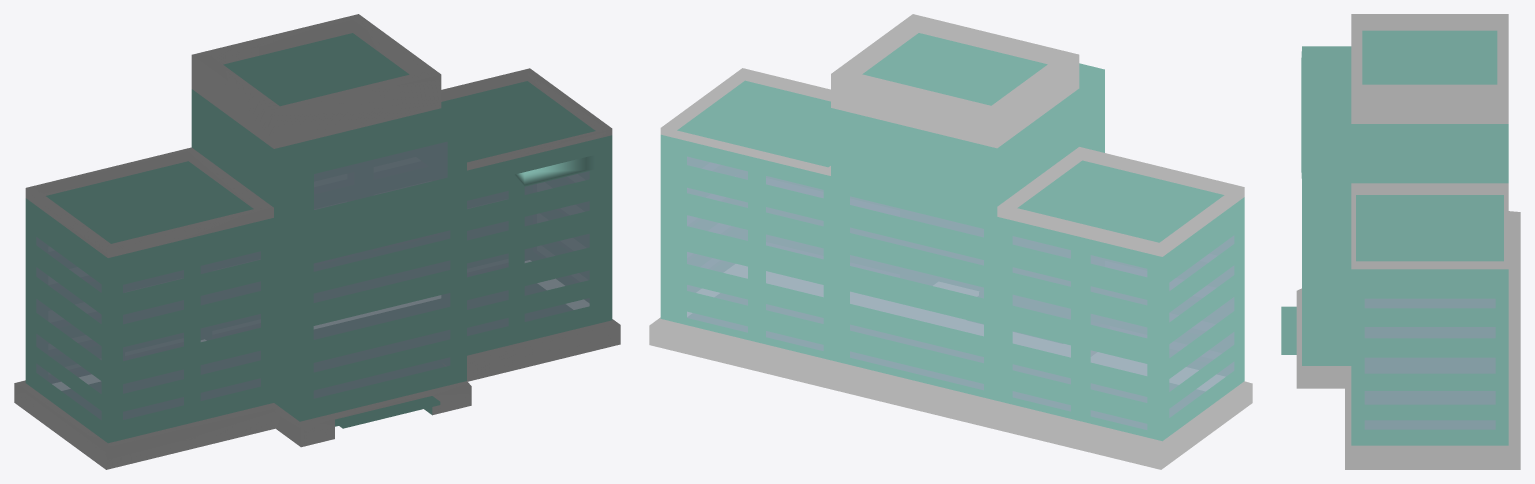
3 renders of one model, left to right at view 1: azimuth 30°, elevation 25°; view 2: azimuth 150°, elevation 25°; view 3: azimuth 270°, elevation 25°, orthographic. The views are drawn at different scales.
Visible parts, largest first — view 1: House_8.001; view 2: House_8.001; view 3: House_8.001.
Boxes of the visible parts, box(x1,y1,x2,y2) form: House_8.001: box(14, 14, 620, 469); House_8.001: box(649, 14, 1252, 469); House_8.001: box(1281, 14, 1520, 469).
Bounding box in the file's own units: 166 × 96.27 × 70.05.
